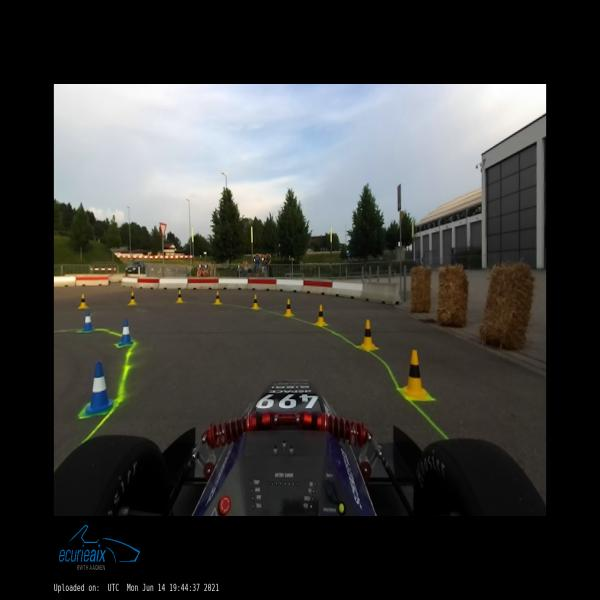blue_cone: (84, 362, 114, 415), (118, 319, 133, 346), (82, 310, 94, 331)
yellow_cone: (401, 350, 428, 399), (360, 319, 375, 349), (315, 306, 326, 326), (284, 299, 293, 316), (78, 294, 88, 308), (129, 291, 136, 305), (252, 295, 259, 309), (214, 292, 222, 304), (176, 290, 183, 302)
